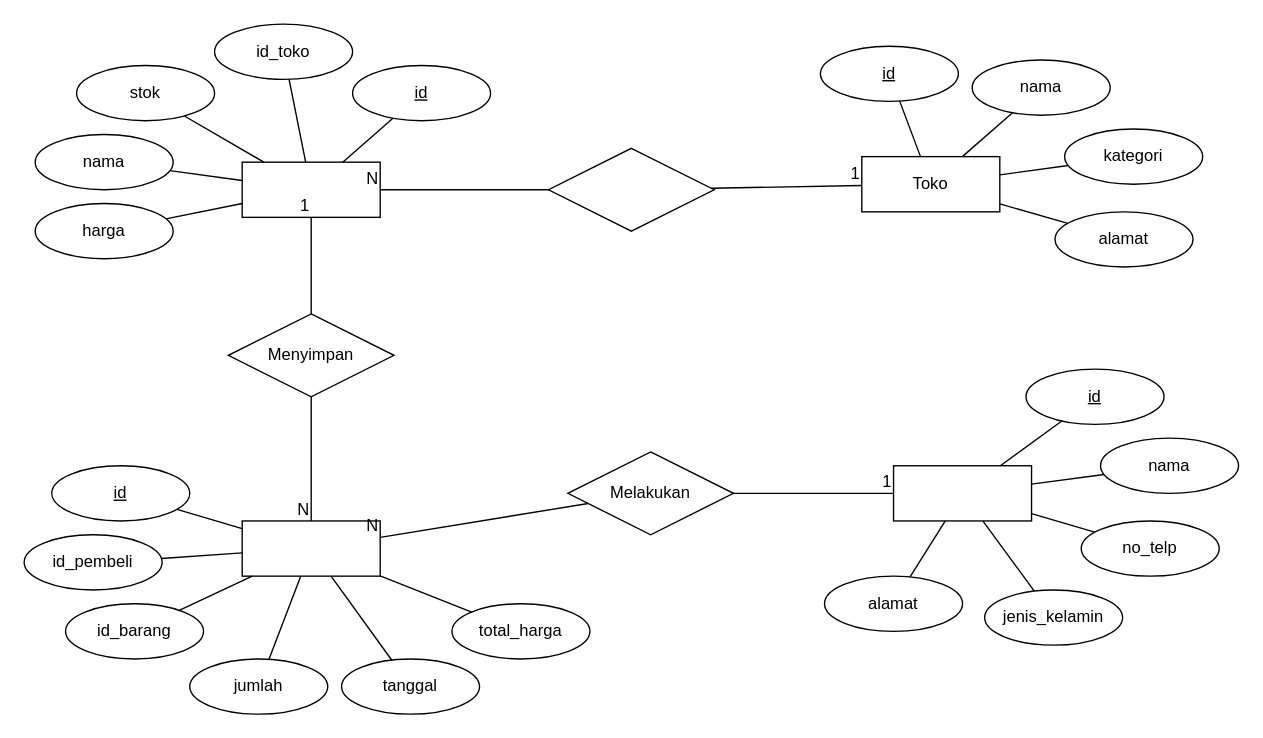
Some shapes in this 1263 by 738 pixel diagram are drawn without their labels. Each missing label, with the centre of its shape:
"Barang" belongs at point 310,189.
"Memiliki" belongs at point 630,189.
"Pembeli" belongs at point 962,492.
"Transaksi" belongs at point 310,548.
